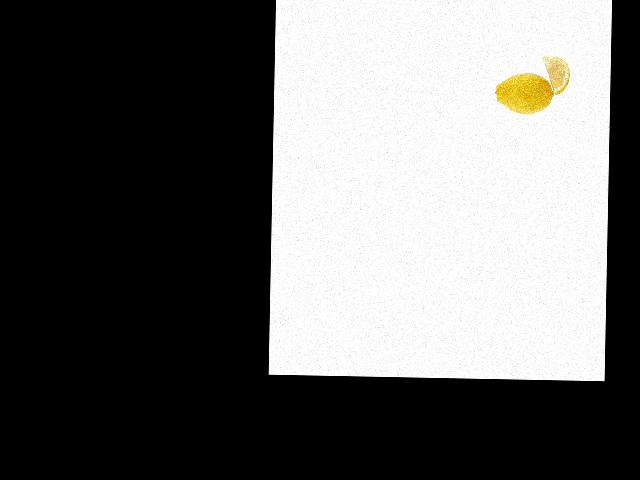lemon: (493, 69, 556, 116)
